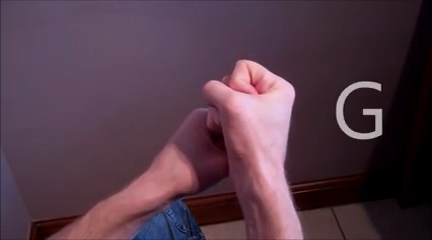G: (166, 51, 304, 209)
